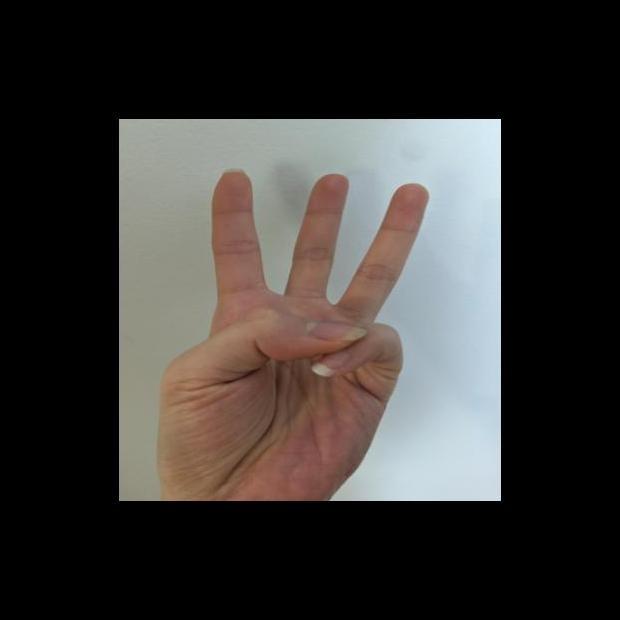V: (149, 159, 439, 500)
